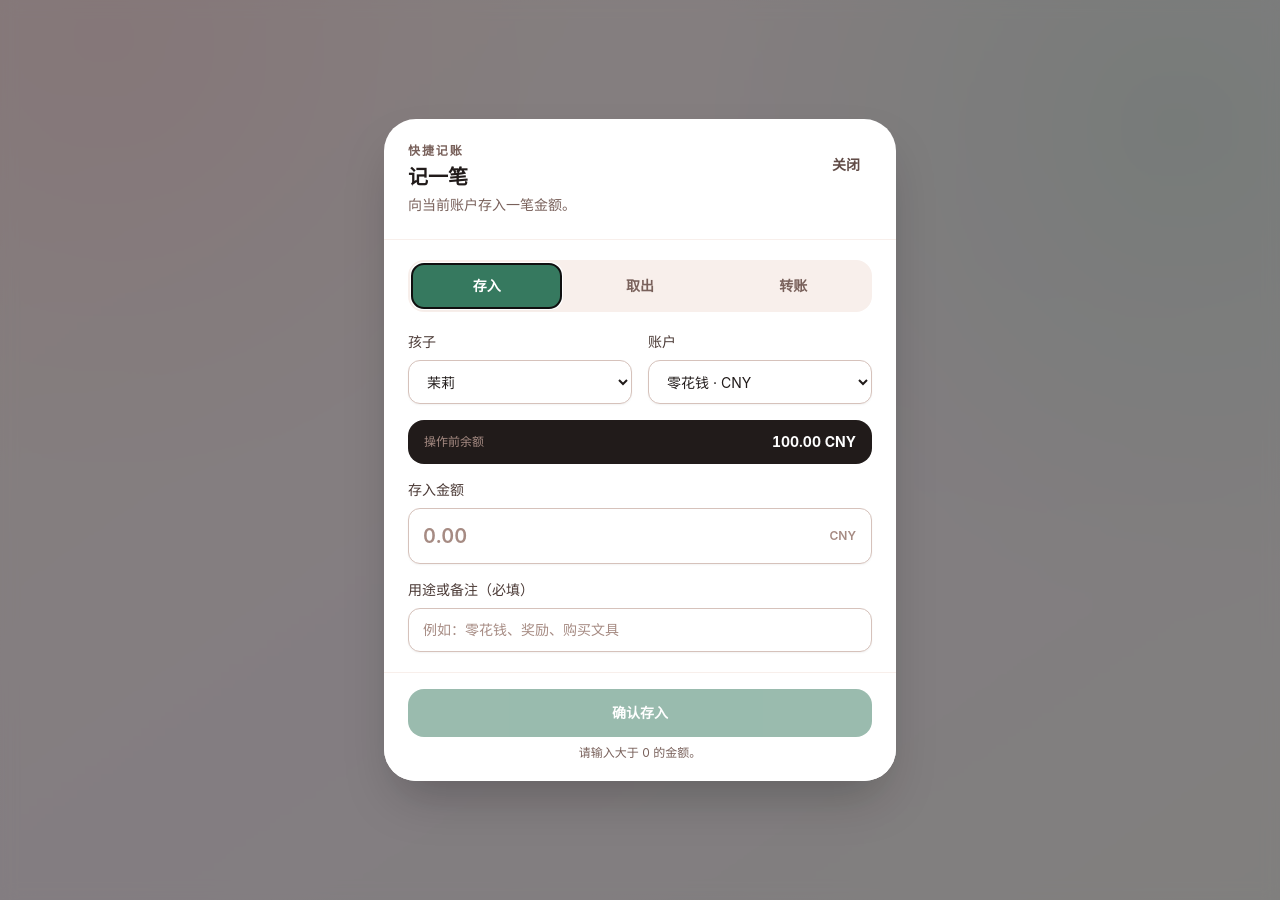
Test: LedgerEntry › retains a rejected withdrawal draft and shows the reason
Click the button "取出": click(640, 286) [565, 264, 715, 308]
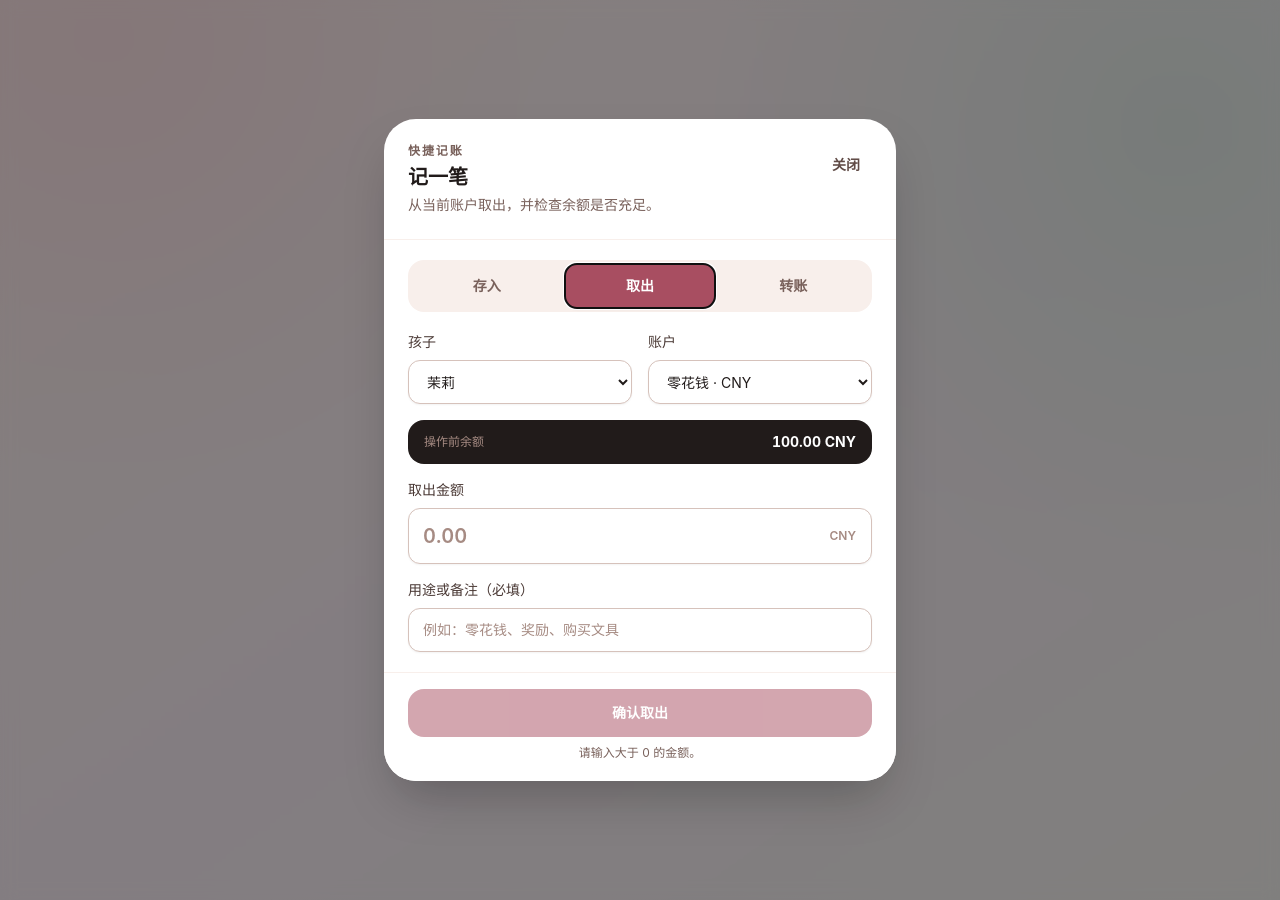
In the number field labelled "取出金额": (640, 536) [408, 508, 872, 564], type "200"
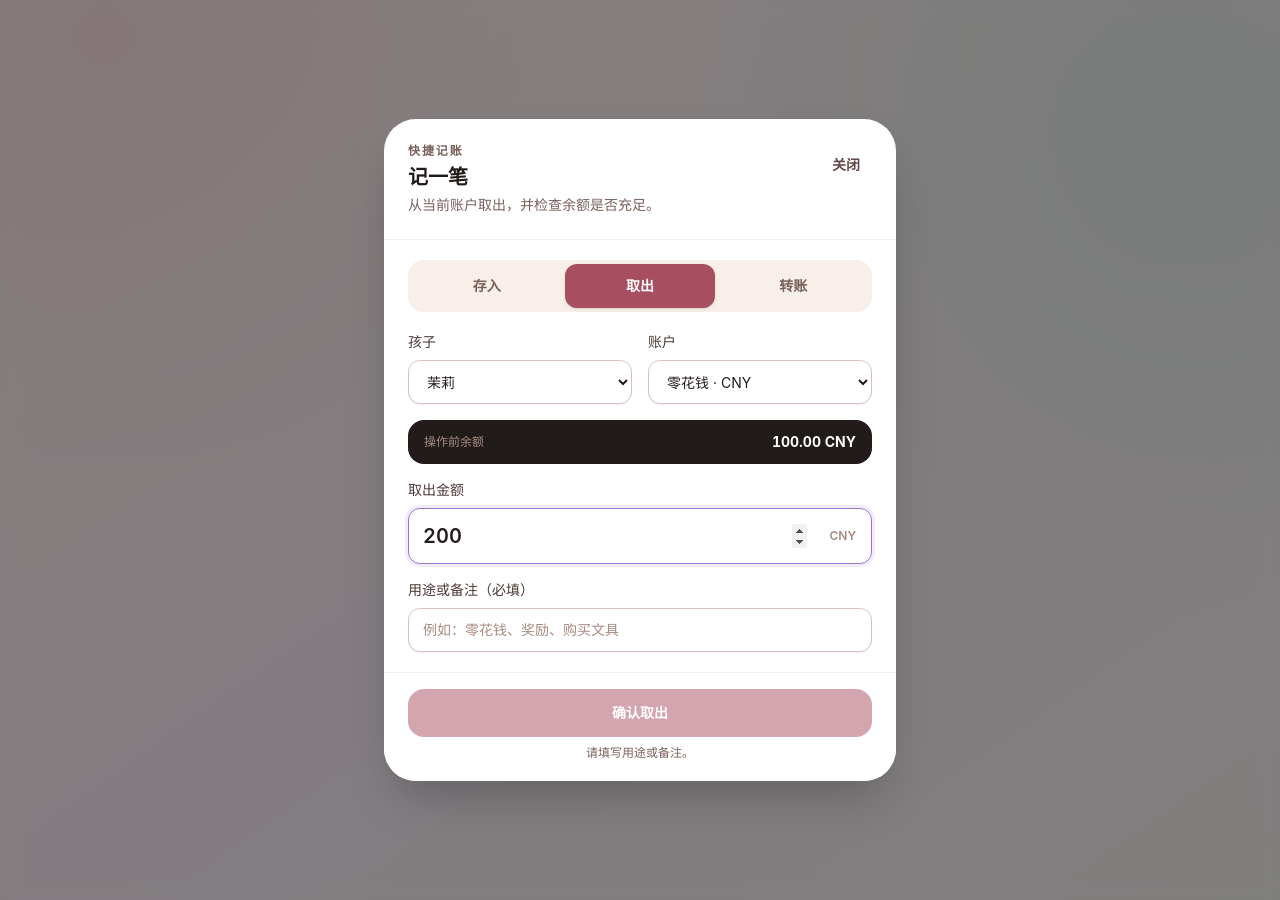
In the field labelled "用途或备注（必填）": (640, 630) [408, 608, 872, 652], type "奖励"
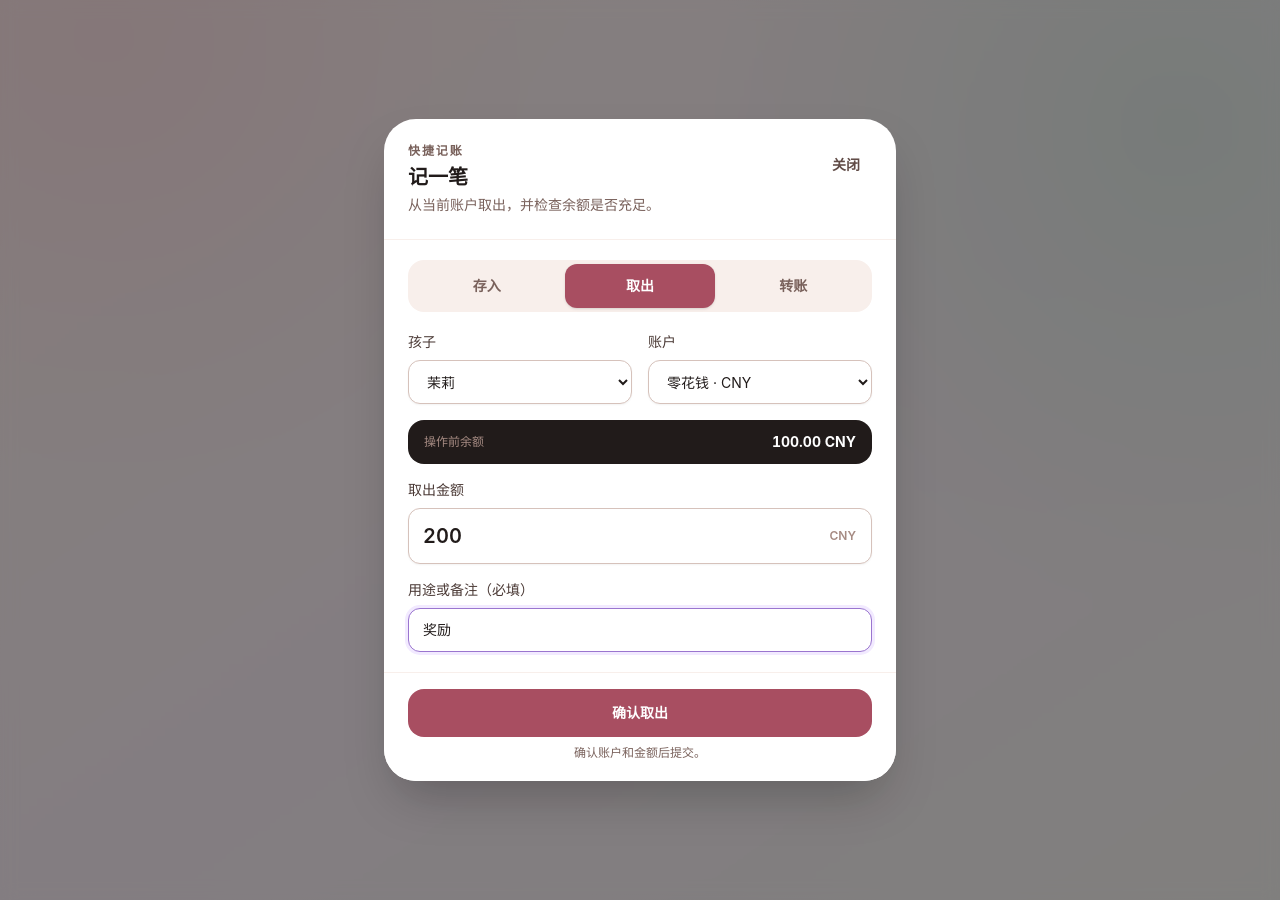
Click the button "确认取出": click(640, 713) [408, 689, 872, 737]
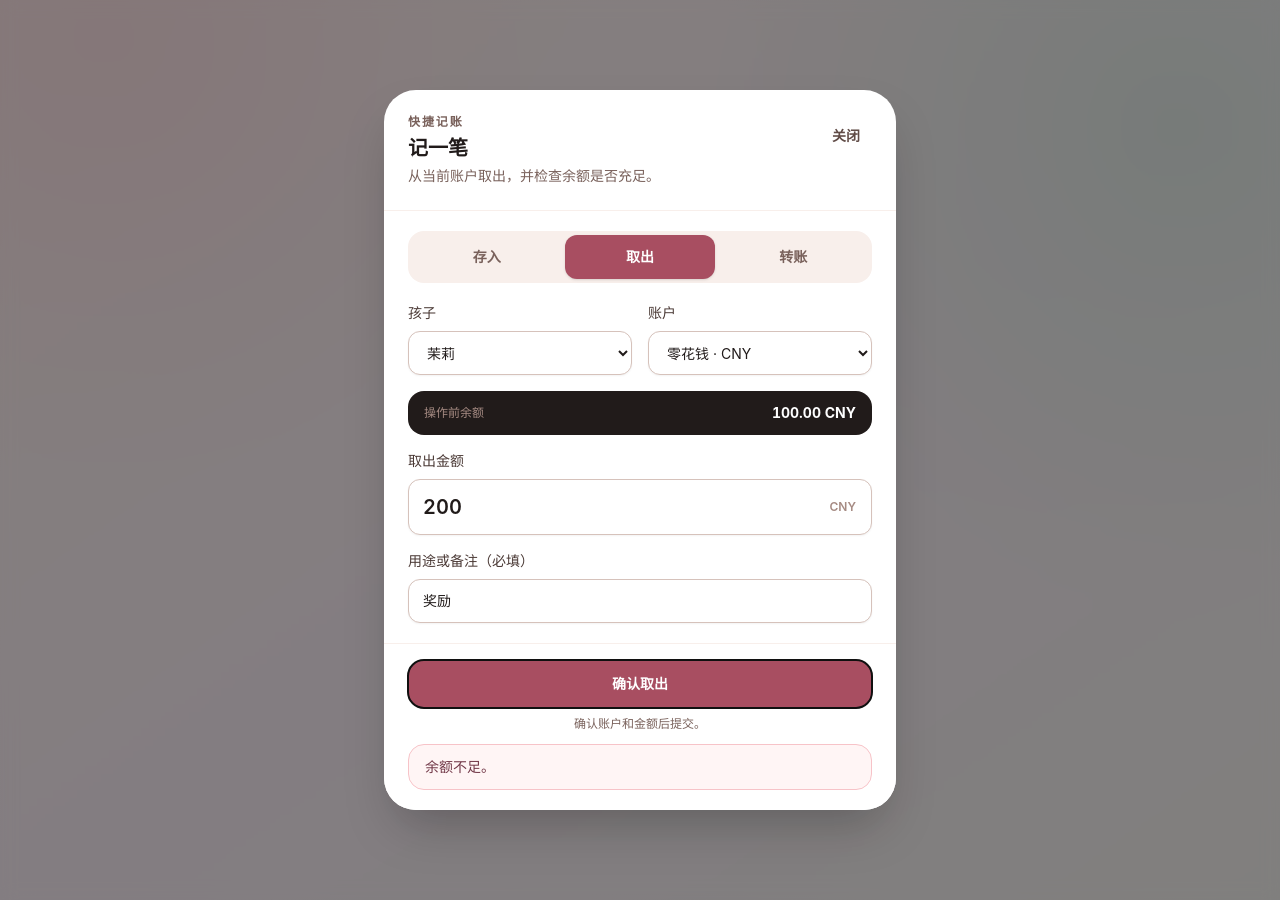
expect the message "余额不足。" is shown: met, box [408, 744, 872, 790]
